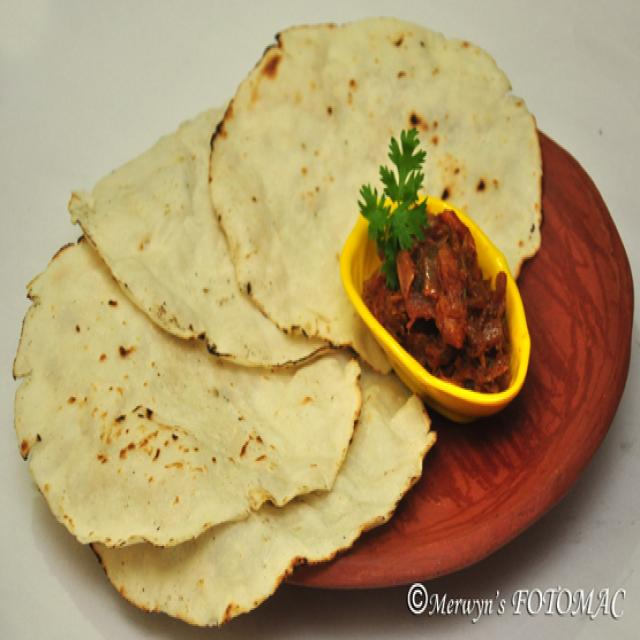RICE BHAKRI: (210, 20, 540, 360), (14, 241, 371, 544), (96, 365, 432, 624), (70, 105, 319, 365)
